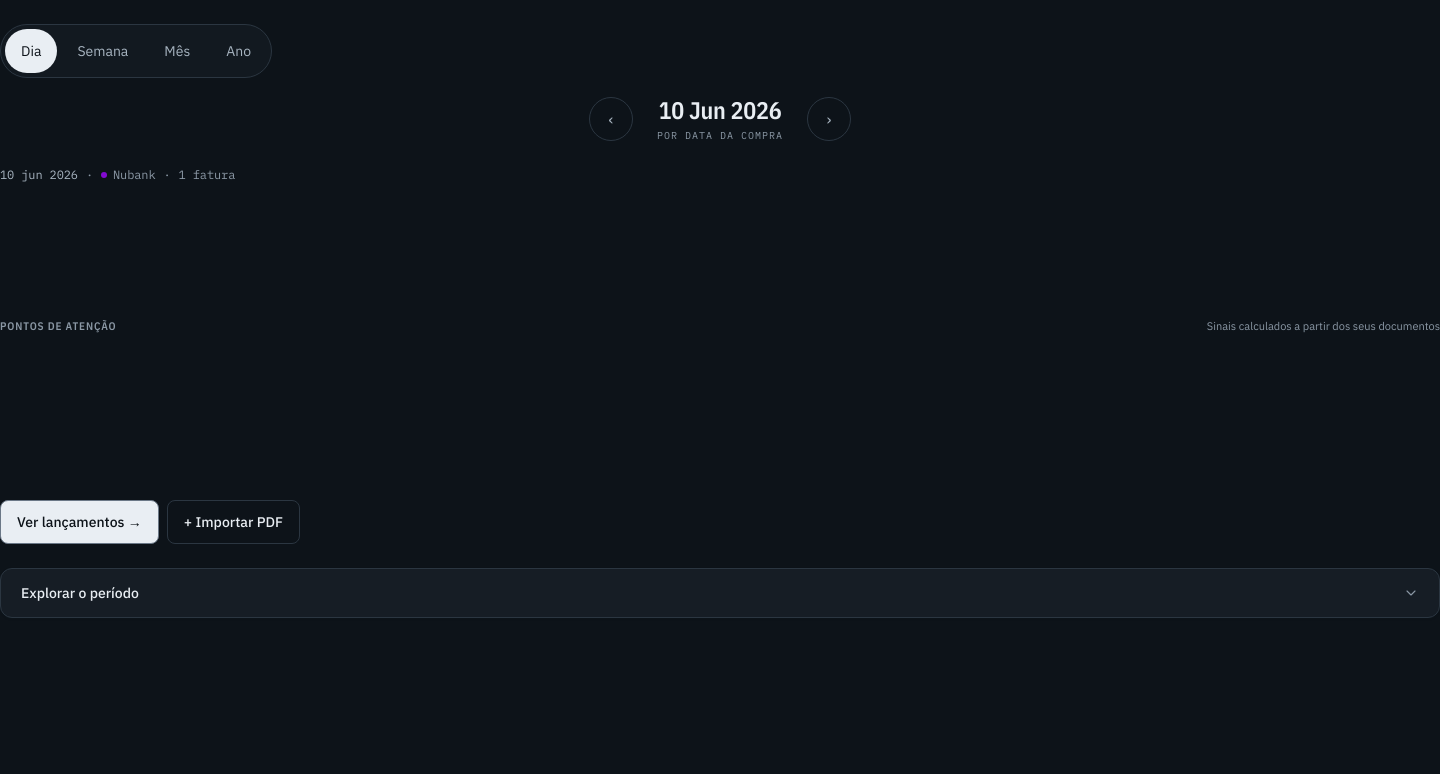
Test: Painel — o ritmo diário no período Dia › diz que o desenho cobre o mês, para a média não ser lida como a do dia
Click the heading "Explorar o período": (80, 593) [21, 584, 1419, 602]
(page scrolled)
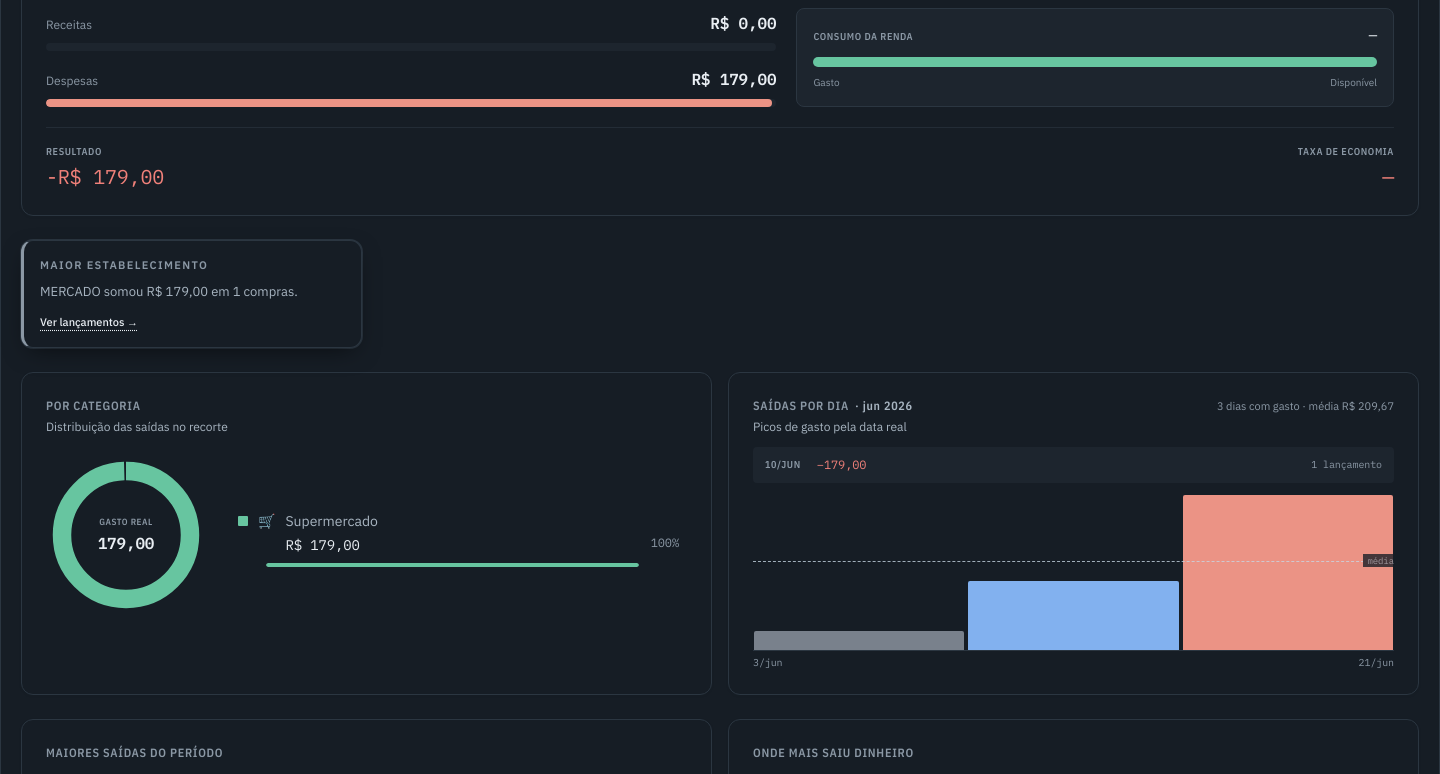
Now the text "Saídas por dia· jun 2026" is shown, box [753, 397, 913, 415]
